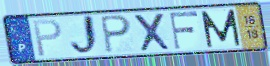F: (168, 10, 200, 51)
J: (69, 13, 102, 58)
M: (199, 8, 243, 49)
P: (98, 14, 134, 55), (31, 18, 64, 59)
X: (131, 11, 173, 53)
